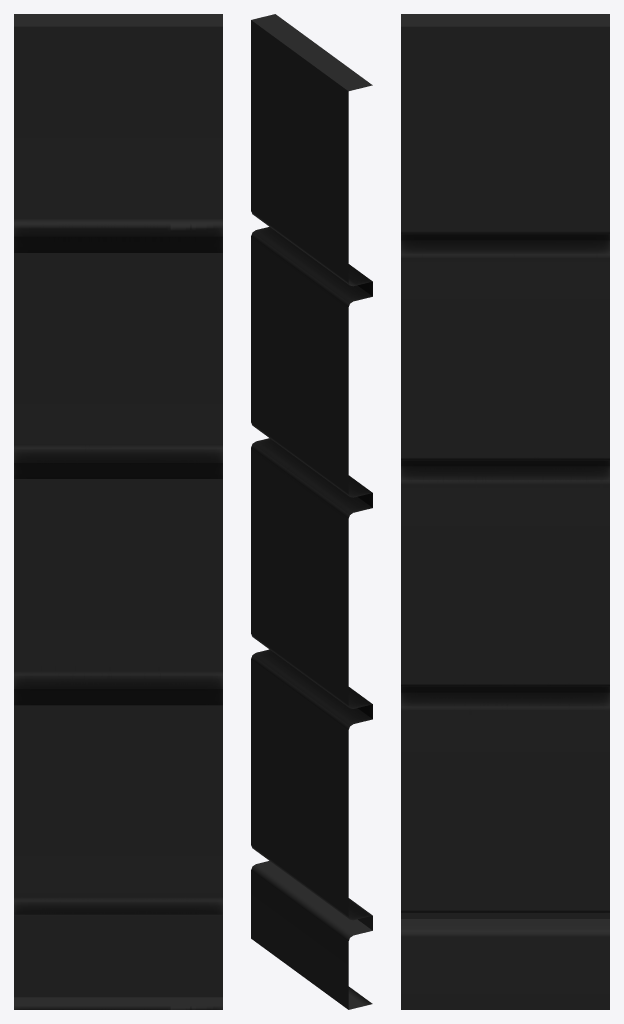
Rendered from EXT_U_SW.fbx.
The picture shows the model from 3 angles, left to right: view 1: azimuth 90°, elevation 25°; view 2: azimuth 210°, elevation 25°; view 3: azimuth 270°, elevation 25°; orthographic projection. The views are drawn at different scales.
Parts seen in each view (by area): view 1: EXT_U_SW; view 2: EXT_U_SW; view 3: EXT_U_SW.
Boxes of the visible parts, box(x1,y1,x2,y2) form: EXT_U_SW: box(14, 14, 222, 1009); EXT_U_SW: box(251, 14, 372, 1009); EXT_U_SW: box(401, 14, 609, 1009).
Bounding box in the file's own units: 0.125 × 4.5 × 0.866.
